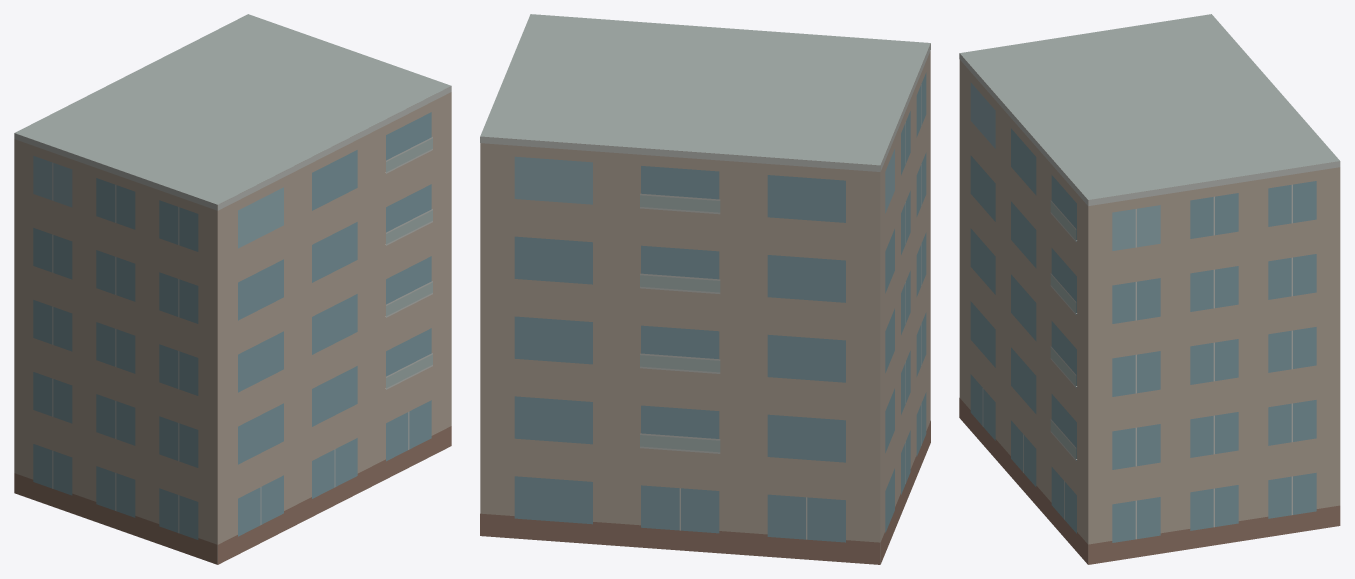
File: survey-upis-32843128.glb
The picture shows the model from 3 angles, left to right: view 1: azimuth 30°, elevation 25°; view 2: azimuth 150°, elevation 25°; view 3: azimuth 270°, elevation 25°; orthographic projection. The views are drawn at different scales.
Parts seen in each view (by area): view 1: survey-upis-32843128.tmp; view 2: survey-upis-32843128.tmp; view 3: survey-upis-32843128.tmp.
Boxes of the visible parts, x1,y1,x2,y2 form: survey-upis-32843128.tmp: (14,14,451,564); survey-upis-32843128.tmp: (480,14,930,564); survey-upis-32843128.tmp: (959,14,1340,564).
Size of the model in its own units: 15.98 by 14.6 by 13.82.
